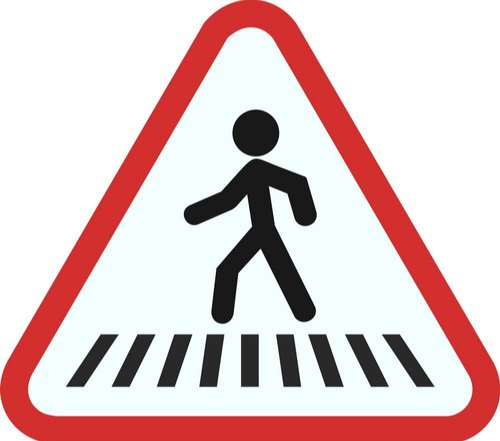pedestrian: (80, 60, 454, 441)
